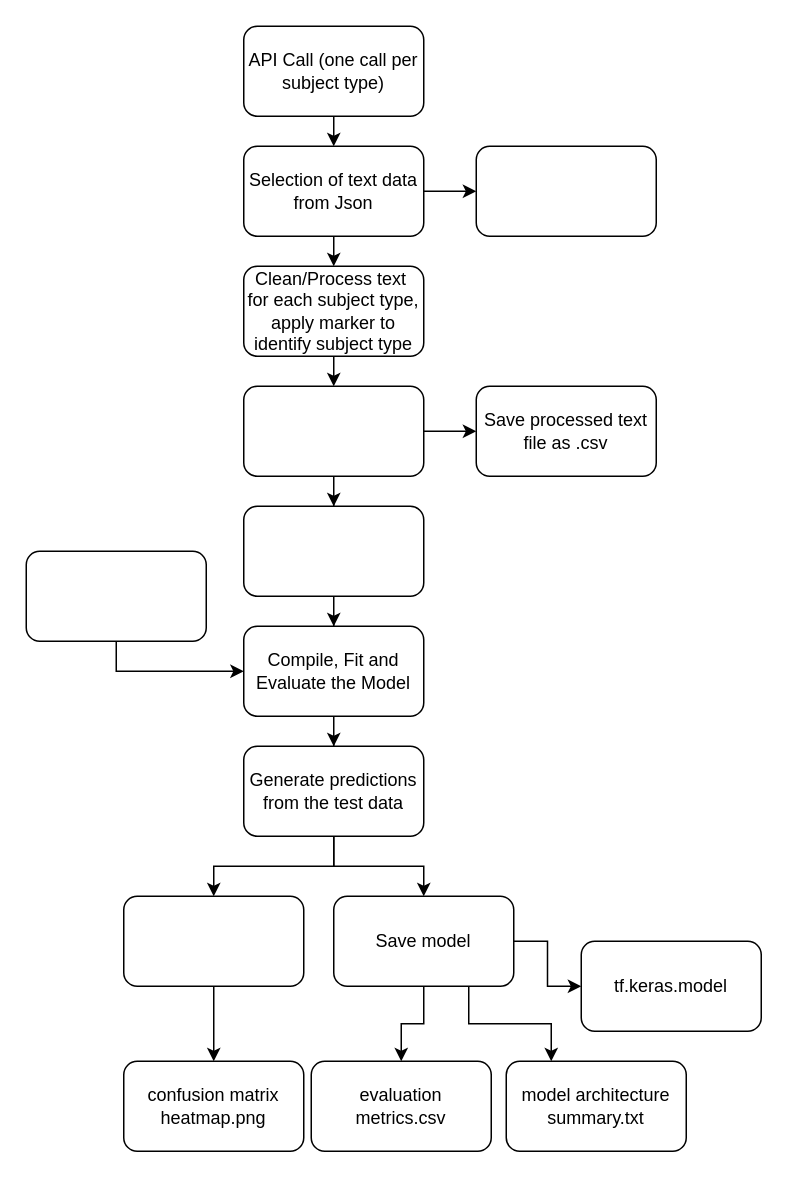
The diagram is 788 pixels wide and 1178 high, and some of its shapes have lost their labels. The shapes that lost their labels are listed below. From the top down, each one's box as (x1, y1, x2, y2) in pixels, then its label:
(475, 145, 656, 236): Raw data saved as .csv
(242, 385, 424, 476): Generate concatenated text object containing all subjects and markers
(242, 505, 424, 596): Train/Test split
(25, 550, 206, 641): Generate Model Architecture
(122, 895, 304, 986): Compute confusion matrix
